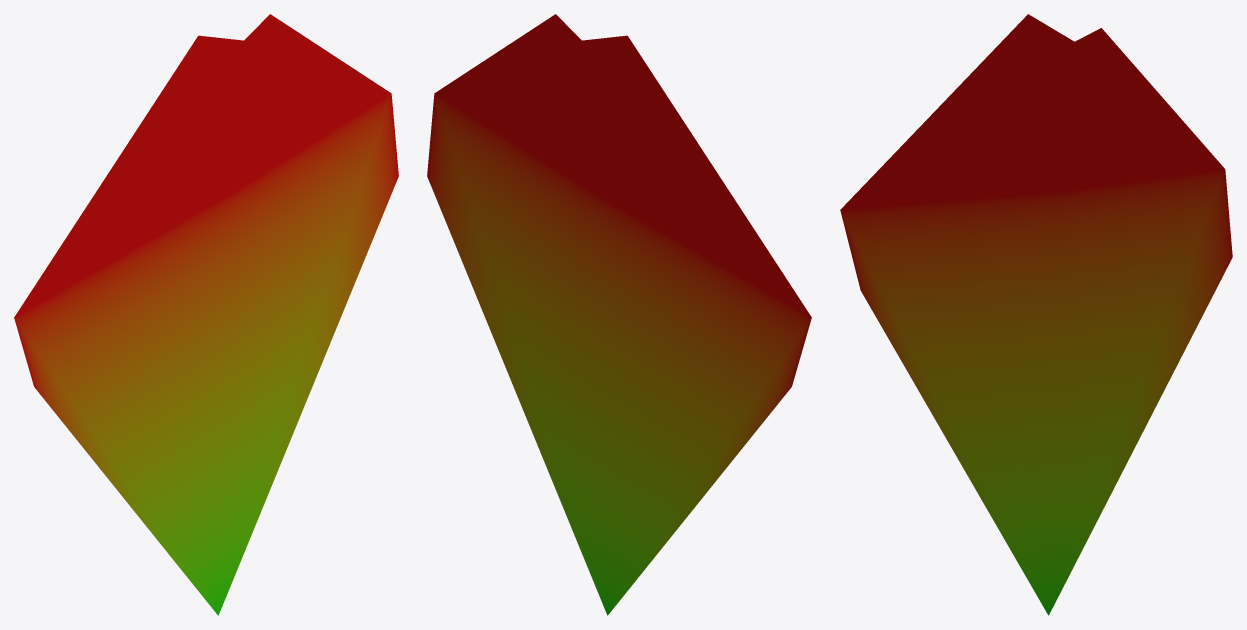
The model's file is Black Locust_LOD4_Var8.fbx.
The picture shows the model from 3 angles, left to right: view 1: azimuth 30°, elevation 25°; view 2: azimuth 150°, elevation 25°; view 3: azimuth 330°, elevation 25°; orthographic projection.
Parts seen in each view (by area): view 1: _7shc_Var8_LOD4; view 2: _7shc_Var8_LOD4; view 3: _7shc_Var8_LOD4.
Part boxes in pixels (x1=…): _7shc_Var8_LOD4: x1=14, y1=14, x2=398, y2=615; _7shc_Var8_LOD4: x1=427, y1=14, x2=811, y2=615; _7shc_Var8_LOD4: x1=840, y1=14, x2=1232, y2=615.
Bounding box in the file's own units: 59.92 × 87.68 × 1.02e-10.
